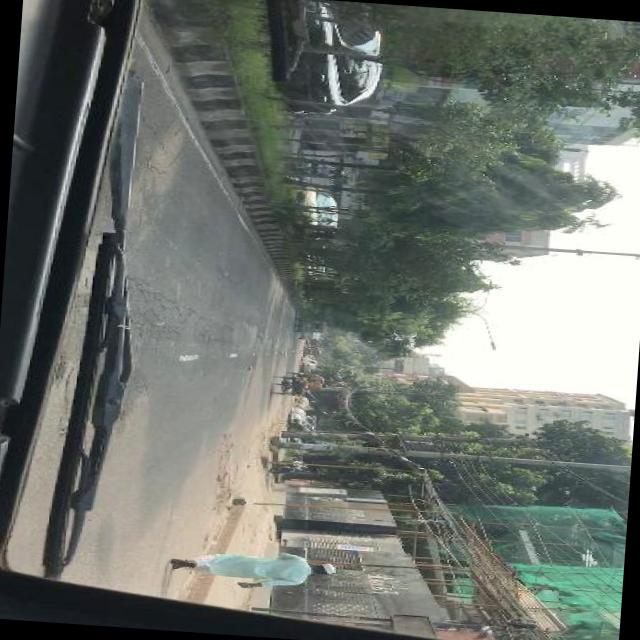car: (254, 0, 386, 119), (280, 182, 342, 241), (286, 418, 316, 443), (296, 398, 318, 419), (293, 408, 314, 424), (298, 332, 320, 342), (302, 363, 315, 374), (305, 358, 317, 365)
motorcycle: (272, 458, 314, 478), (287, 157, 322, 180), (294, 318, 329, 336), (288, 372, 324, 382), (303, 349, 321, 357)
